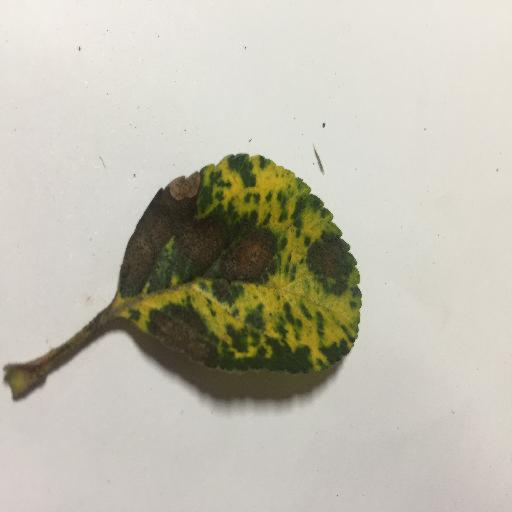Brown_Spot: (125, 182, 281, 371), (308, 237, 358, 288)
